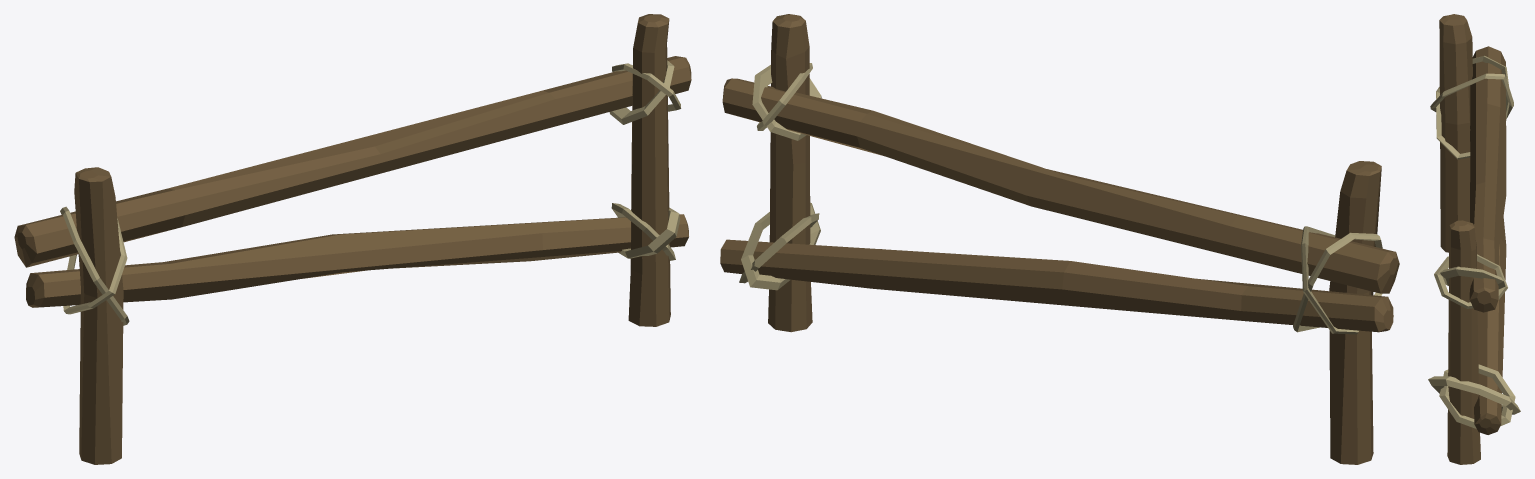
The model's file is island_fence.fbx.
3 views of the same model, side by side, from view 1: azimuth 30°, elevation 25°; view 2: azimuth 150°, elevation 25°; view 3: azimuth 270°, elevation 25° (orthographic). The views are drawn at different scales.
Parts seen in each view (by area): view 1: Cylinder.013; view 2: Cylinder.013; view 3: Cylinder.013.
Part boxes in pixels (box(x1,y1,x2,y2)): Cylinder.013: box(14, 14, 691, 464); Cylinder.013: box(720, 14, 1399, 464); Cylinder.013: box(1428, 14, 1520, 464).
Bounding box in the file's own units: 2.19 × 0.9466 × 0.3397.
